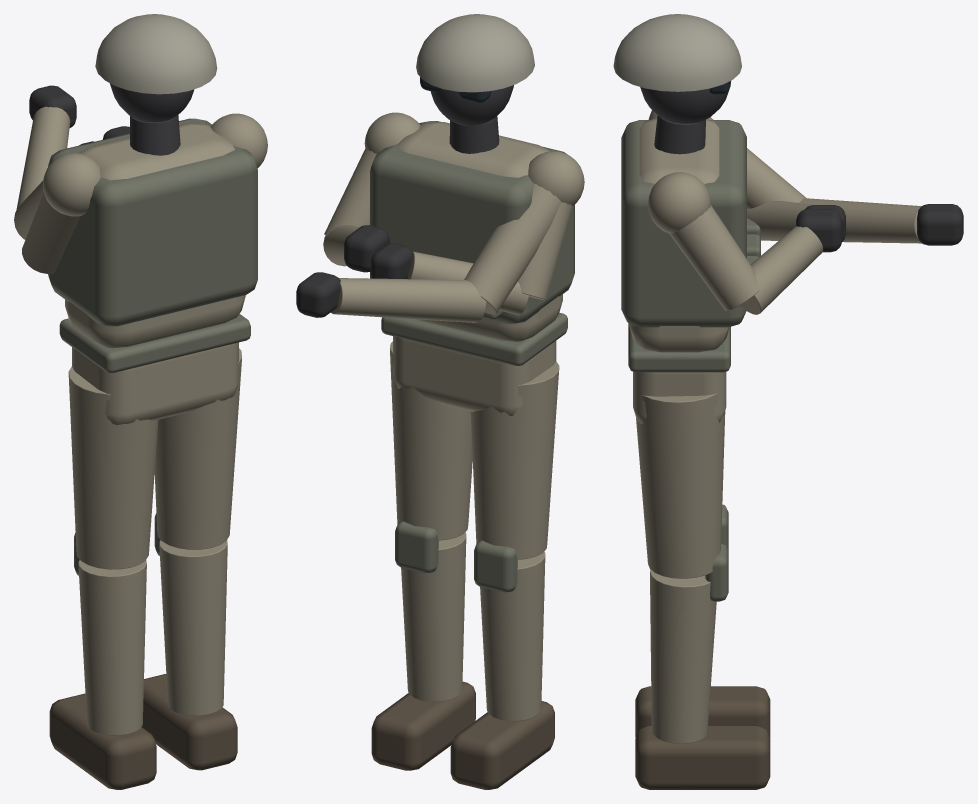
Rendered from soldier.glb.
3 renders of one model, left to right at view 1: azimuth 30°, elevation 25°; view 2: azimuth 150°, elevation 25°; view 3: azimuth 270°, elevation 25°, orthographic. The views are drawn at different scales.
Parts seen in each view (by area): view 1: PlateCarrier, ThighMeshL, ThighMeshR, ShinMeshL, ShinMeshR, Torso, Pelvis, HelmetShell, BootL, BootR, Belt, Shoulder-1 (+7 smaller); view 2: PlateCarrier, ThighMeshL, ThighMeshR, ShinMeshL, ShinMeshR, Pelvis, HelmetShell, BootL, Torso, BootR, ForearmL, UpperArmL (+14 smaller); view 3: ThighMeshR, PlateCarrier, ShinMeshR, HelmetShell, BootR, Torso, UpperArmR, ForearmR, ForearmL, BootL, Shoulder1, Pelvis (+8 smaller).
Boxes of the visible parts, left/top/right/bottom form: PlateCarrier: left=48, top=118, right=257, bottom=326; ThighMeshL: left=68, top=366, right=158, bottom=569; ThighMeshR: left=154, top=348, right=241, bottom=549; ShinMeshL: left=78, top=560, right=146, bottom=735; ShinMeshR: left=159, top=540, right=227, bottom=715; Torso: left=65, top=123, right=245, bottom=348; Pelvis: left=72, top=342, right=238, bottom=425; HelmetShell: left=95, top=14, right=217, bottom=94; BootL: left=49, top=693, right=156, bottom=789; BootR: left=142, top=674, right=237, bottom=770; Belt: left=59, top=314, right=250, bottom=372; Shoulder-1: left=42, top=153, right=100, bottom=216; PlateCarrier: left=370, top=121, right=574, bottom=323; ThighMeshL: left=470, top=361, right=559, bottom=559; ThighMeshR: left=390, top=341, right=472, bottom=540; ShinMeshL: left=480, top=551, right=545, bottom=721; ShinMeshR: left=401, top=532, right=466, bottom=701; Pelvis: left=393, top=336, right=556, bottom=415; HelmetShell: left=416, top=14, right=534, bottom=92; BootL: left=450, top=701, right=554, bottom=789; Torso: left=397, top=122, right=562, bottom=341; BootR: left=371, top=681, right=475, bottom=770; ForearmL: left=331, top=278, right=486, bottom=322; UpperArmL: left=464, top=183, right=561, bottom=314; ThighMeshR: left=636, top=393, right=725, bottom=578; PlateCarrier: left=621, top=120, right=746, bottom=327; ShinMeshR: left=650, top=570, right=716, bottom=743; HelmetShell: left=613, top=14, right=741, bottom=91; BootR: left=635, top=725, right=770, bottom=789; Torso: left=629, top=118, right=729, bottom=352; UpperArmR: left=669, top=205, right=759, bottom=310; ForearmR: left=740, top=226, right=823, bottom=314; ForearmL: left=799, top=198, right=921, bottom=243; BootL: left=635, top=686, right=770, bottom=737; Shoulder1: left=648, top=172, right=711, bottom=233; Pelvis: left=633, top=371, right=726, bottom=423.
Size of the model in its own units: 0.5666 by 1.76 by 0.7522.
